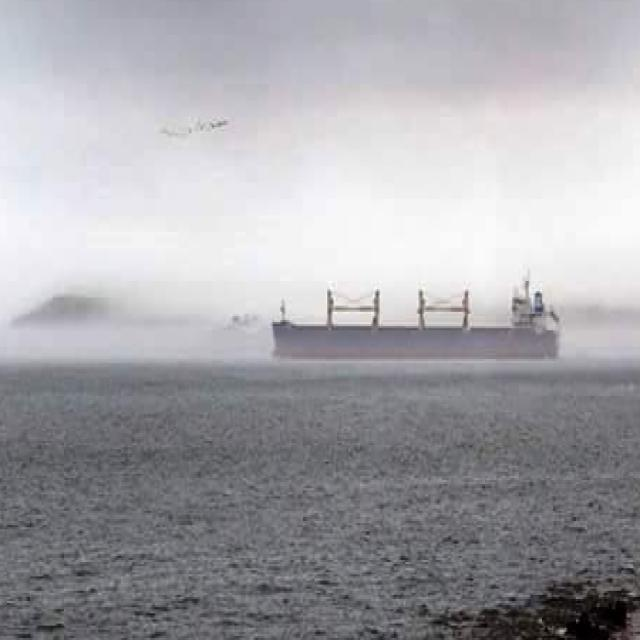cargoship: (266, 268, 560, 362)
